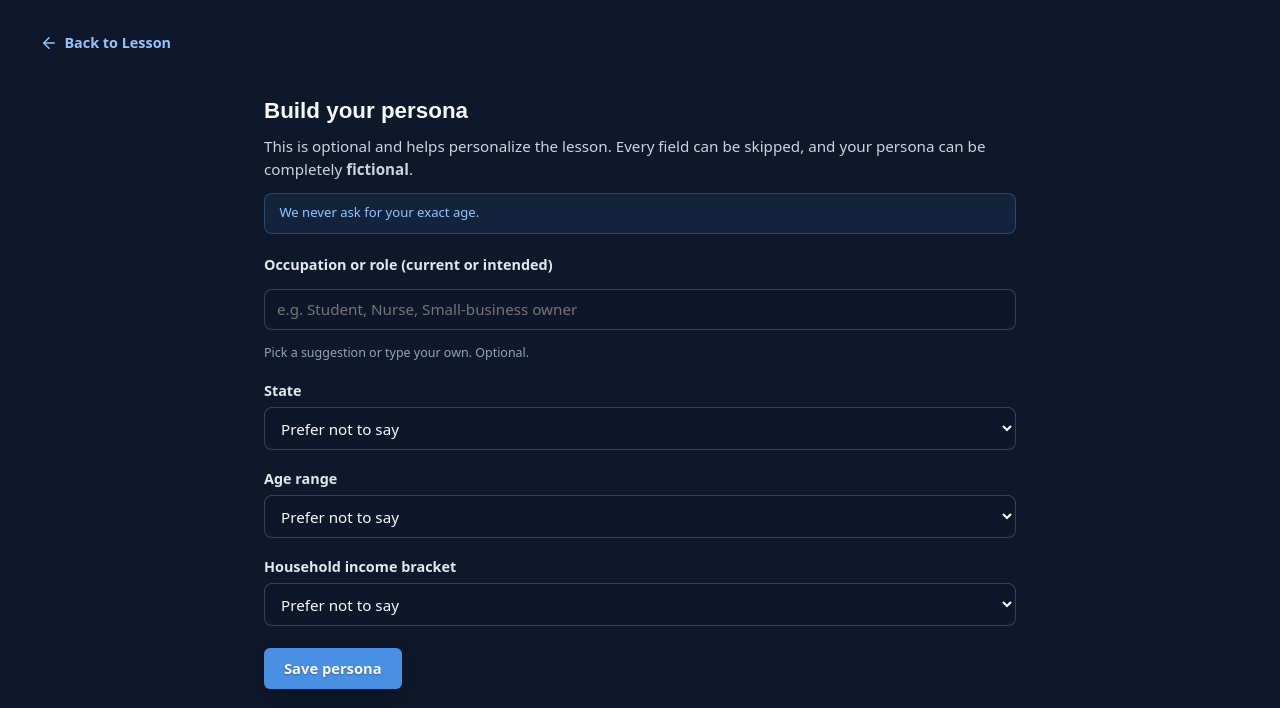
Test: LessonPersona › saves a standalone persona in place without forcing navigation away
Click the button with test id "persona-save" at (333, 668), box x1=264 y1=648 x2=402 y2=689
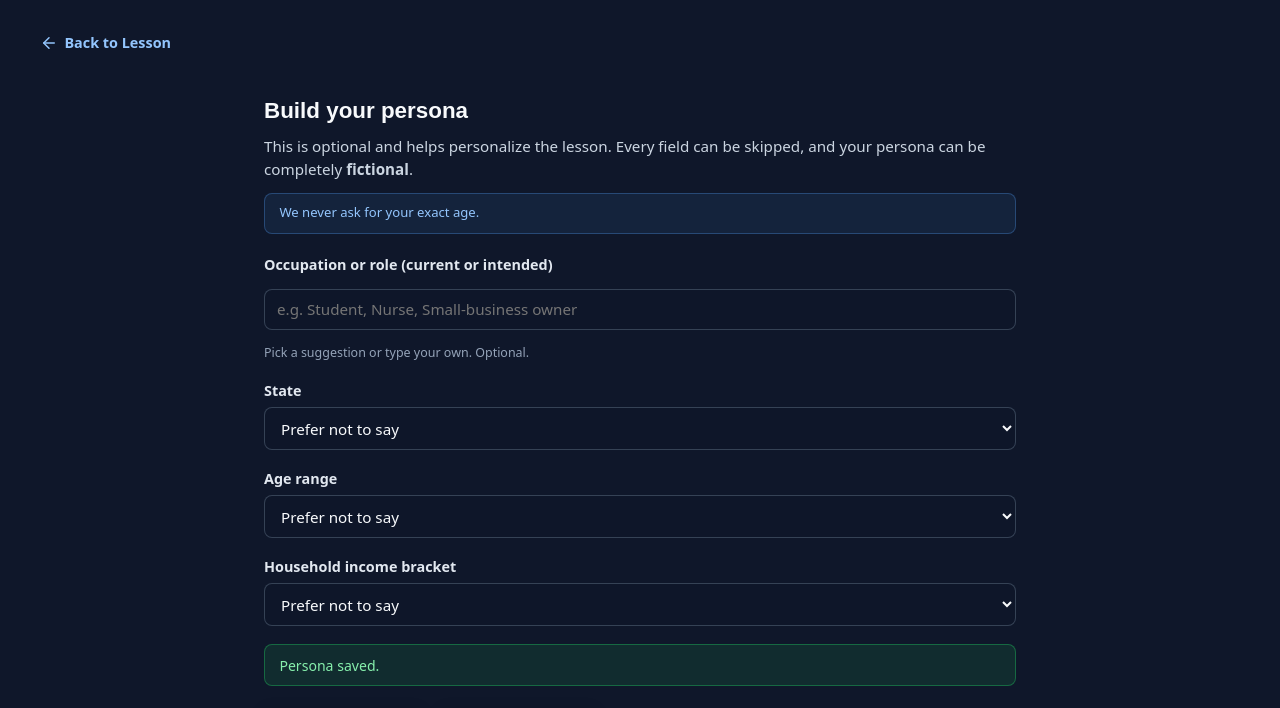
Check: the message with test id "persona-status" reads "Persona saved.", box x1=279 y1=656 x2=379 y2=674
